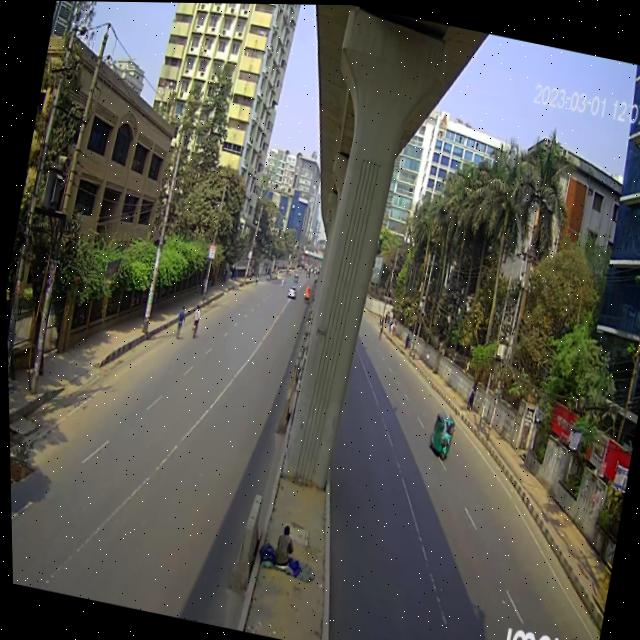cng: (423, 410, 457, 467)
